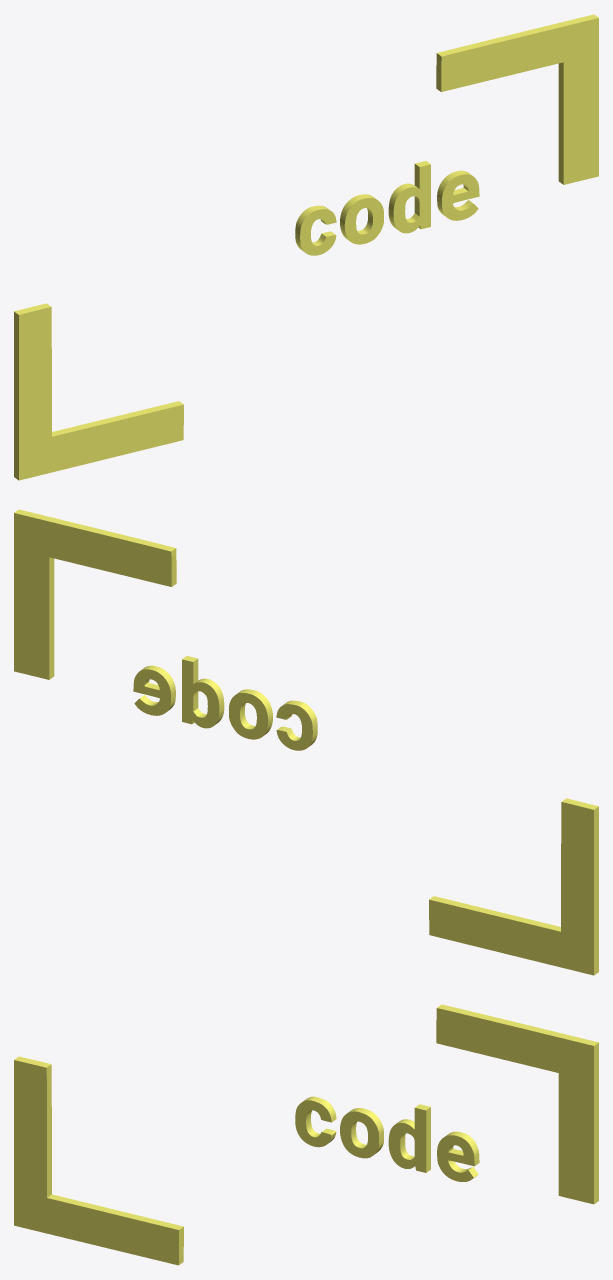
File: chaveiro-jlcode-amarelo.glb
3 views of the same model, one above another, from view 1: azimuth 30°, elevation 25°; view 2: azimuth 150°, elevation 25°; view 3: azimuth 330°, elevation 25° (orthographic).
Parts seen in each view (by area): view 1: Node; view 2: Node; view 3: Node.
Part boxes in pixels (x1,y1,x2,y2): Node: (14,14,598,480); Node: (14,509,598,975); Node: (14,1004,598,1265).
Size of the model in its own units: 55 by 29.09 by 0.8.
